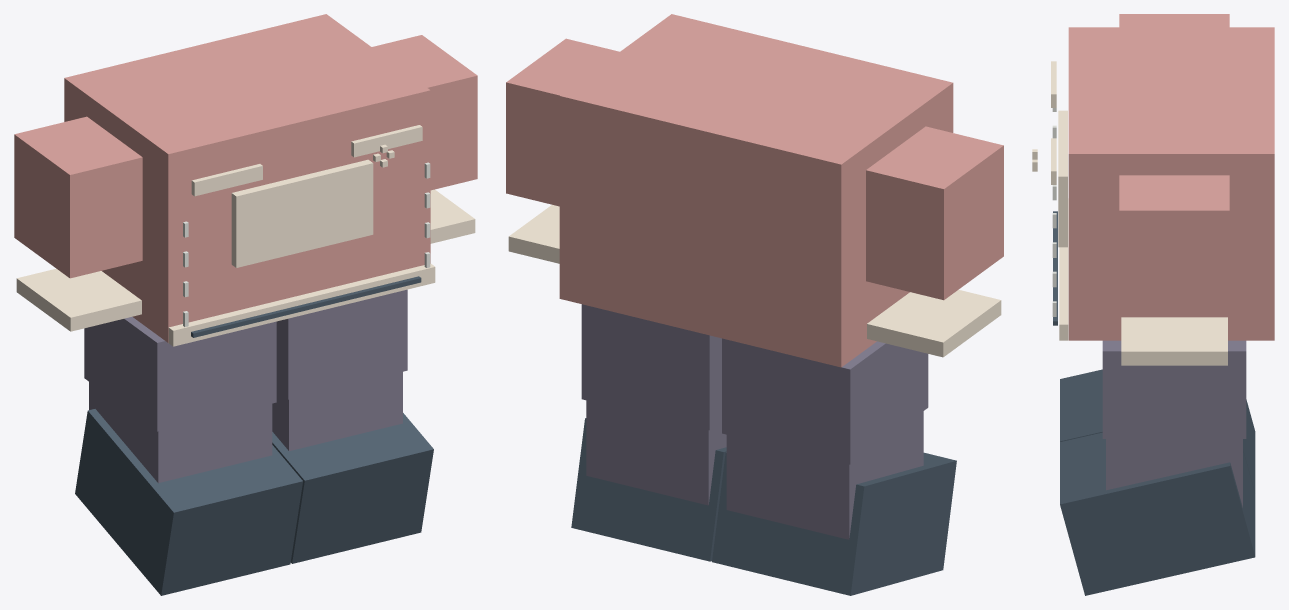
File: casual-coral.glb
3 views of the same model, side by side, from view 1: azimuth 30°, elevation 25°; view 2: azimuth 150°, elevation 25°; view 3: azimuth 270°, elevation 25° (orthographic). The views are drawn at different scales.
Visible parts, largest first — view 1: jacket, shoe-Right, upper-sleeve-Right, trouser-Right, shoe-Left, tee-panel, trouser-Left, lower-trouser-Right, upper-sleeve-Left, lower-trouser-Left, cuff-Right, tee-hem (+4 smaller); view 2: jacket, upper-sleeve-Right, trouser-Right, shoe-Right, trouser-Left, lower-trouser-Right, lower-trouser-Left, upper-sleeve-Left, shoe-Left, cuff-Right, cuff-Left; view 3: jacket, shoe-Left, upper-sleeve-Left, trouser-Left, lower-trouser-Left, cuff-Left, shoe-Right, upper-sleeve-Right, tee-panel, tee-hem, design-casual-double-hem.
Boxes of the visible parts, box(x1,y1,x2,y2) form: jacket: box(64, 14, 430, 342); shoe-Right: box(75, 409, 302, 595); upper-sleeve-Right: box(14, 116, 142, 278); trouser-Right: box(84, 317, 276, 431); shoe-Left: box(272, 413, 433, 563); tee-panel: box(231, 159, 373, 267); trouser-Left: box(276, 289, 407, 399); lower-trouser-Right: box(89, 382, 272, 482); upper-sleeve-Left: box(372, 35, 477, 190); lower-trouser-Left: box(272, 372, 402, 451); cuff-Right: box(16, 268, 141, 331); tee-hem: box(168, 263, 435, 346); jacket: box(559, 14, 953, 367); upper-sleeve-Right: box(866, 126, 1003, 300); trouser-Right: box(722, 338, 928, 464); shoe-Right: box(712, 452, 956, 595); trouser-Left: box(581, 304, 721, 430); lower-trouser-Right: box(726, 411, 923, 539); lower-trouser-Left: box(586, 400, 726, 505); upper-sleeve-Left: box(506, 38, 619, 206); shoe-Left: box(571, 418, 726, 561); cuff-Right: box(867, 289, 1001, 357); cuff-Left: box(508, 204, 559, 263); jacket: box(1068, 27, 1274, 340); shoe-Left: box(1060, 432, 1255, 595); upper-sleeve-Left: box(1119, 175, 1229, 312); trouser-Left: box(1102, 340, 1246, 438); lower-trouser-Left: box(1106, 439, 1242, 507); cuff-Left: box(1121, 317, 1227, 365); shoe-Right: box(1060, 369, 1255, 493); upper-sleeve-Right: box(1119, 14, 1229, 27); tee-panel: box(1058, 110, 1067, 247); tee-hem: box(1059, 198, 1068, 340); design-casual-double-hem: box(1053, 211, 1057, 325).
Size of the model in its own units: 1.07 by 1.13 by 0.559.
